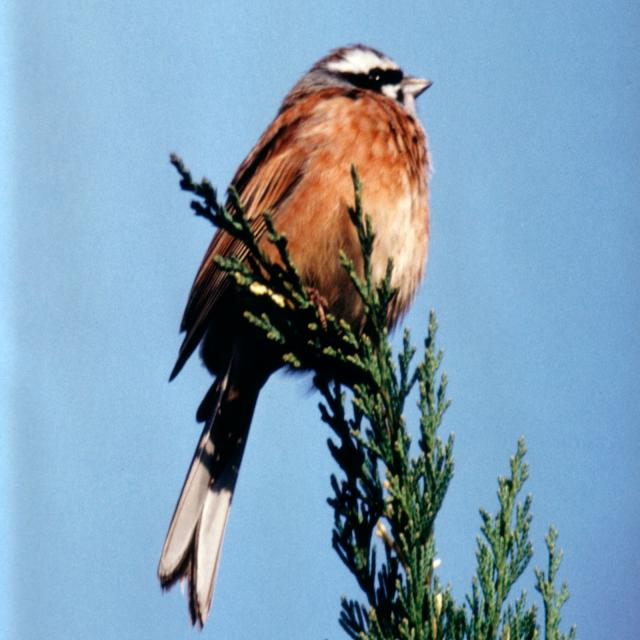bird: (142, 19, 444, 622)
